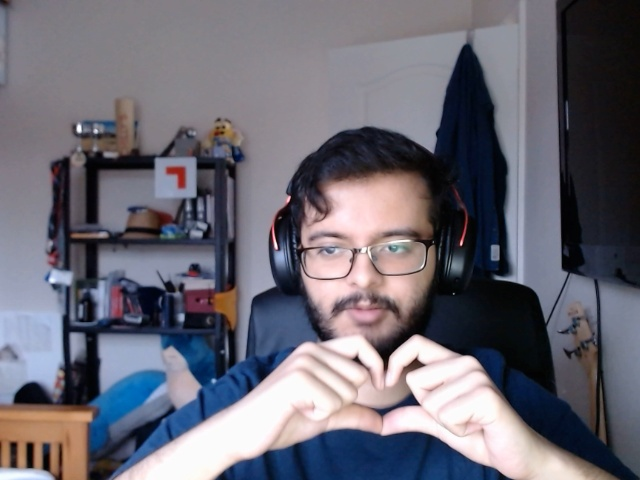Heart: (261, 328, 509, 451)
